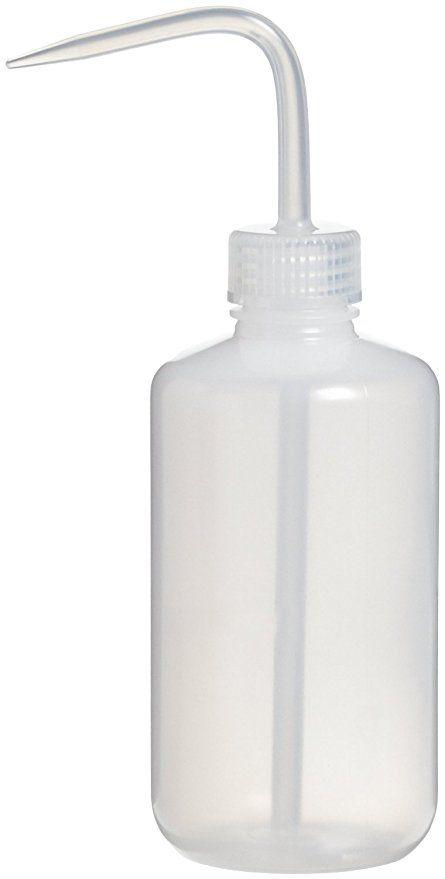LDPE: (2, 6, 435, 871)
